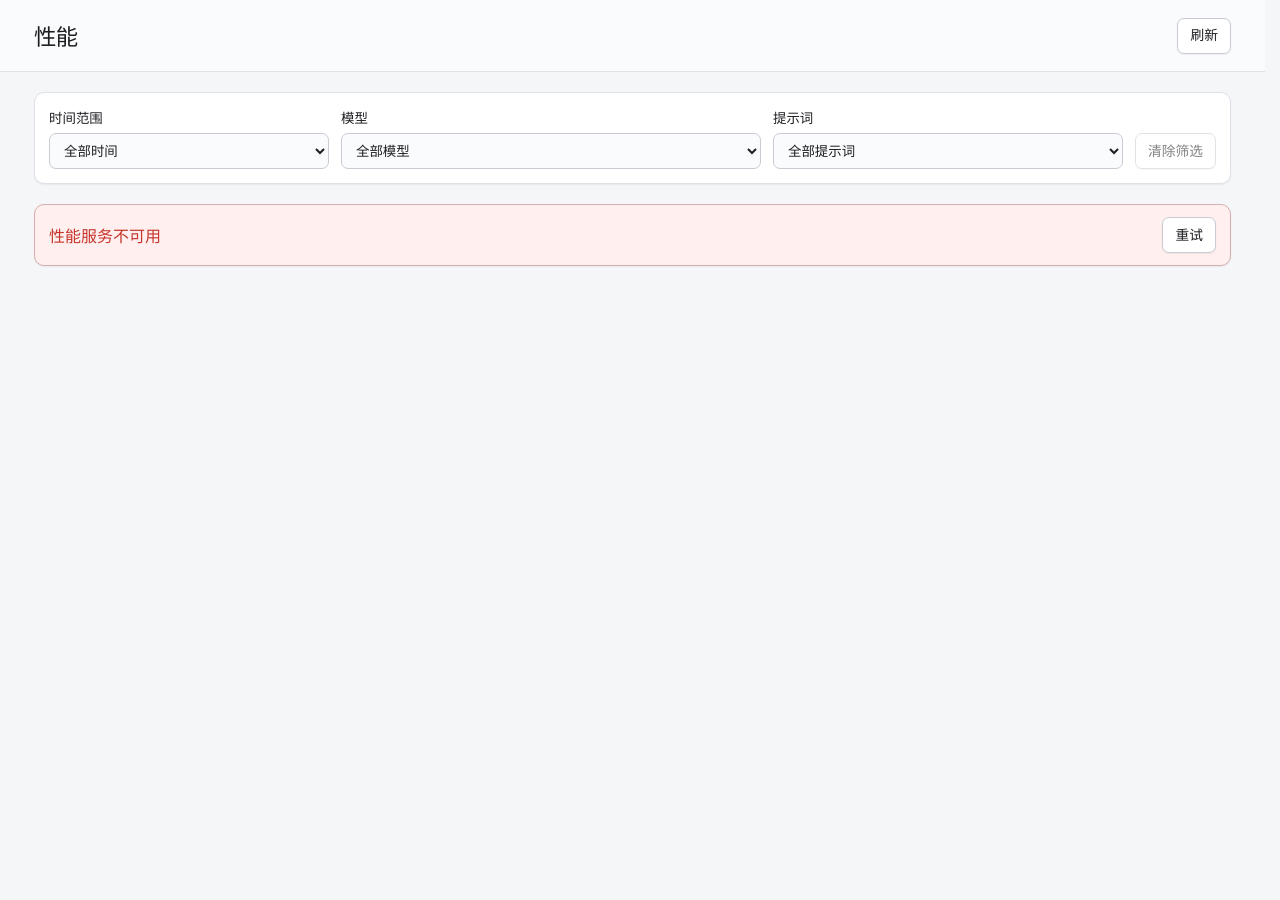
Performance › keeps the error visible and retries the failed request
Expected: the text "性能服务不可用" is shown once, [49,223,161,247]
What coordinates should you click on to do the following:
click the button "重试"
I would click on:
 (1189, 235)
Its box is [1162,217,1216,253].
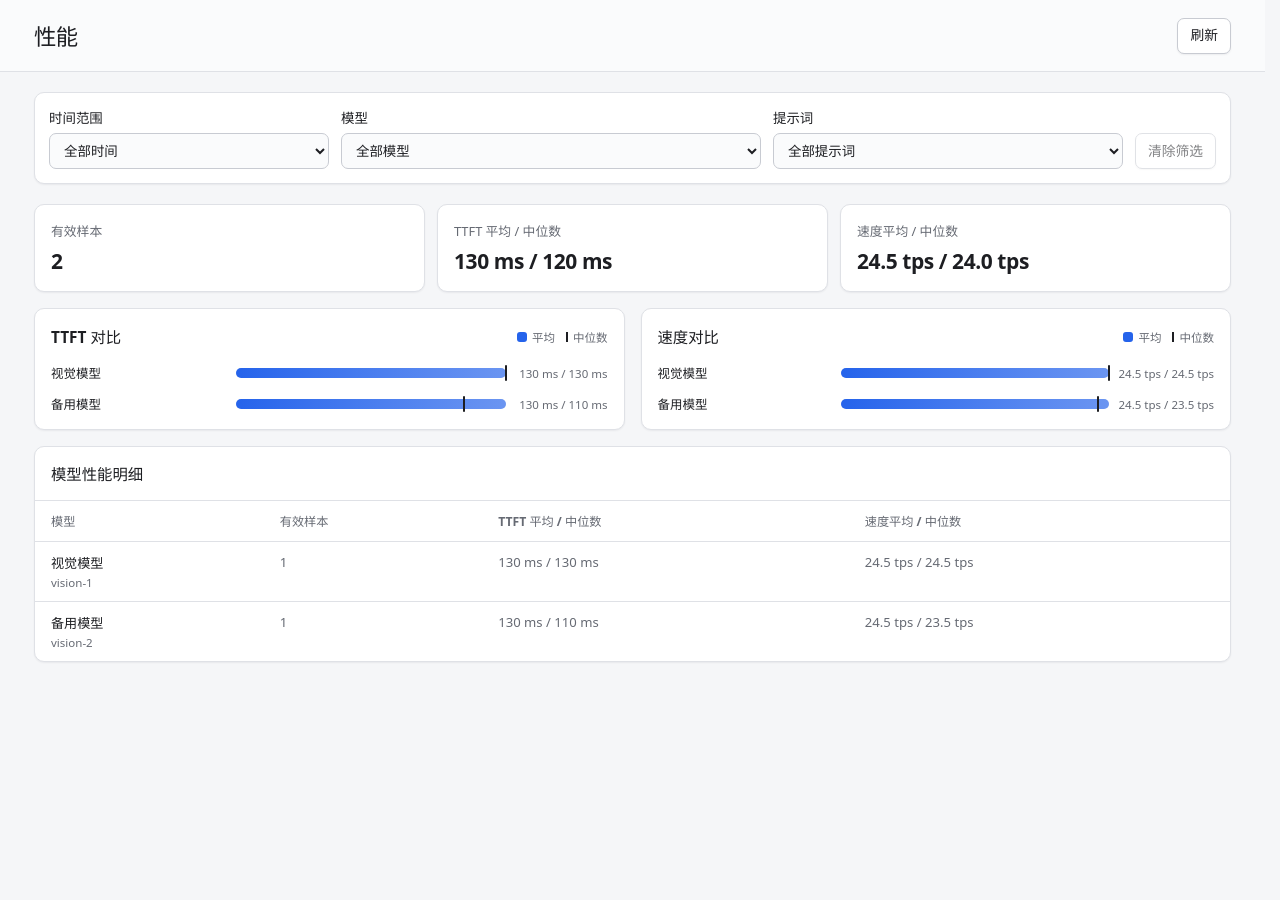
Expected: the text "有效样本" is shown, [51,222,102,240]
